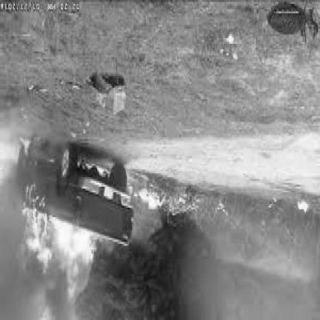Fire: (22, 195, 110, 292)
Smoke: (5, 265, 84, 319)
